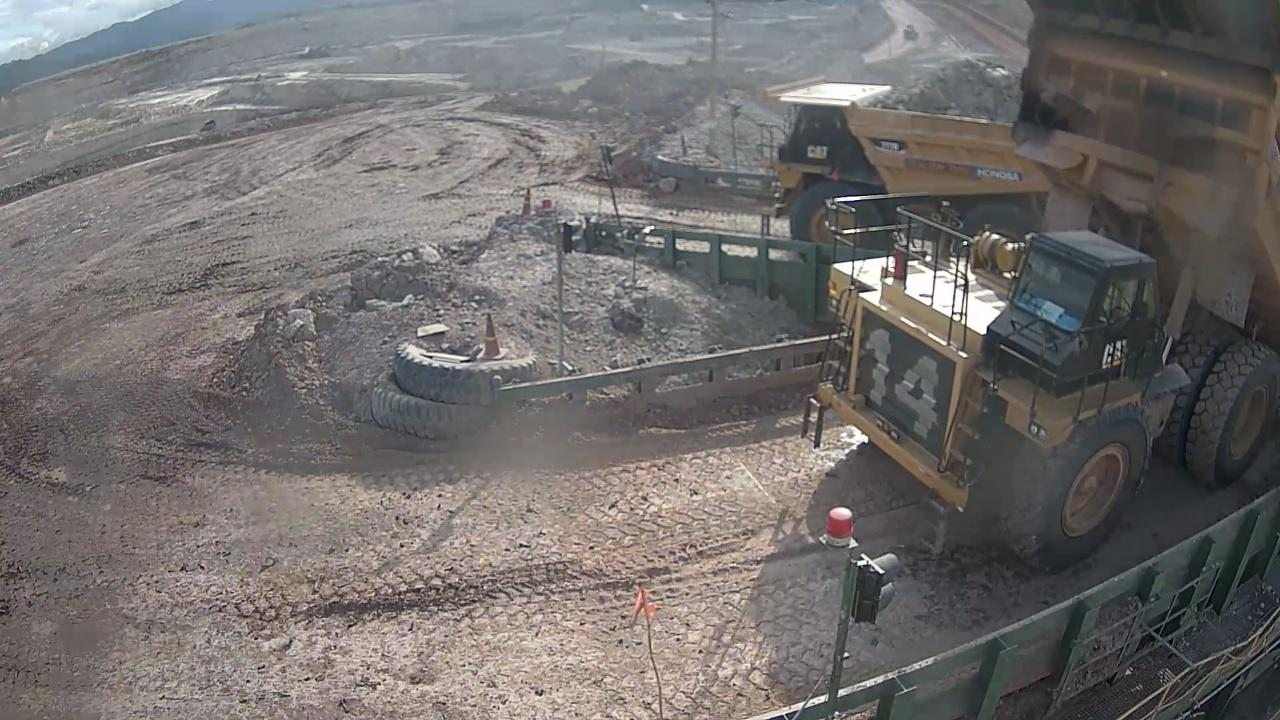dumping_soil: (824, 0, 1280, 569)
front_number: (861, 323, 948, 446)
mining_truck: (740, 47, 1054, 266)
